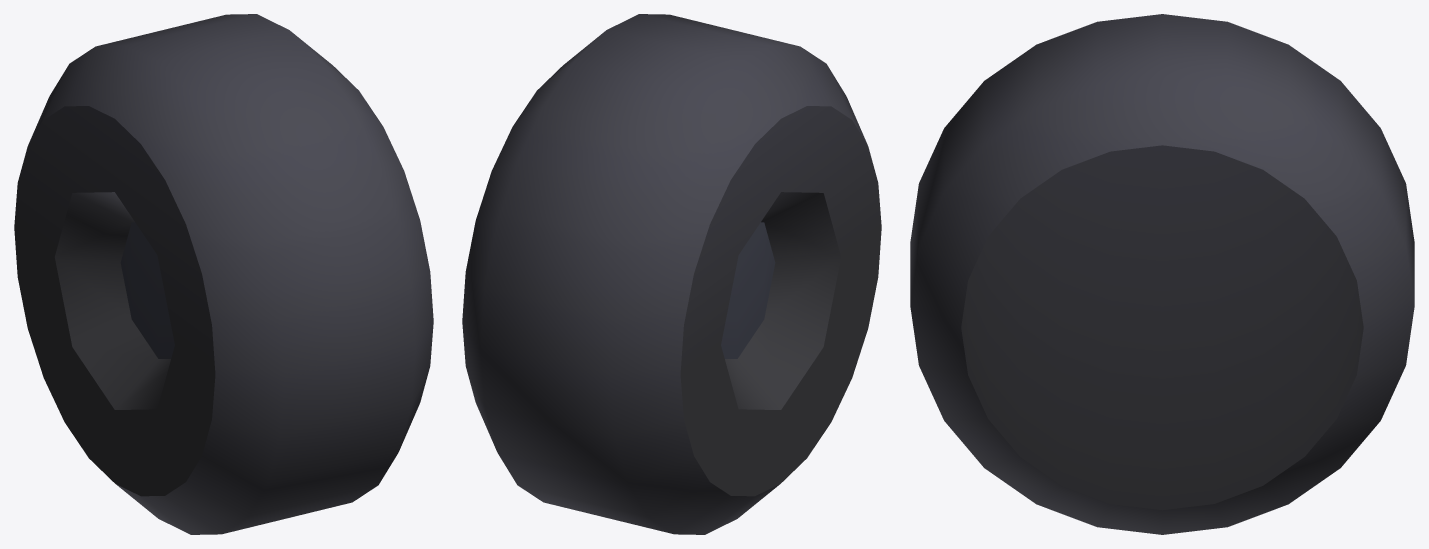
File: wheel-small.fbx
The picture shows the model from 3 angles, left to right: view 1: azimuth 30°, elevation 25°; view 2: azimuth 150°, elevation 25°; view 3: azimuth 270°, elevation 25°; orthographic projection.
Parts seen in each view (by area): view 1: wheel-small; view 2: wheel-small; view 3: wheel-small.
Part boxes in pixels (<box>): wheel-small: <box>14,14,433,534</box>; wheel-small: <box>462,14,881,534</box>; wheel-small: <box>910,14,1414,534</box>.
Bounding box in the file's own units: 12.5 × 25 × 25.
